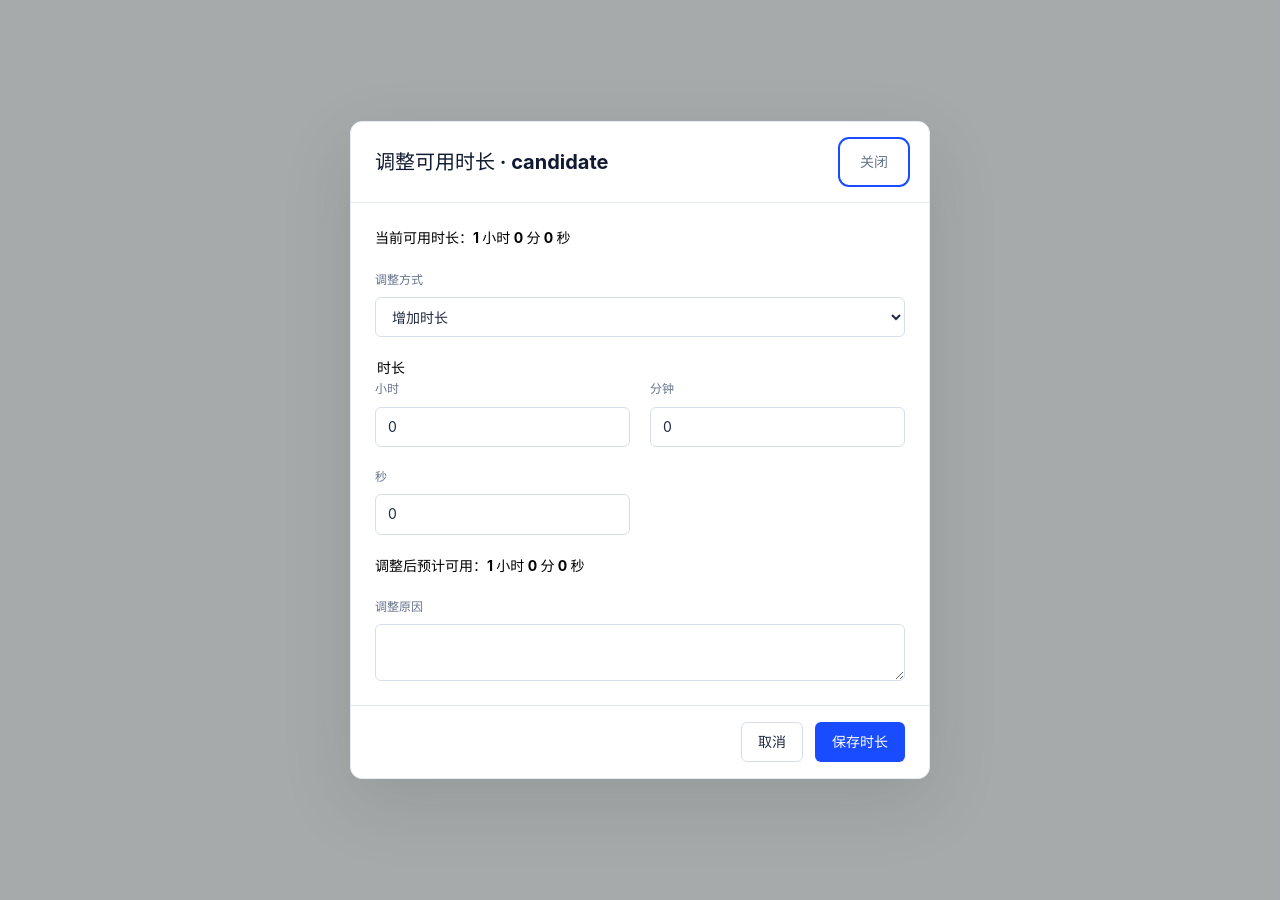
Test case: available interview duration › blocks subtracting more than the available balance
Select "扣除时长" in the dropdown labelled "调整方式" at (640, 317), box 375,297 -> 905,337
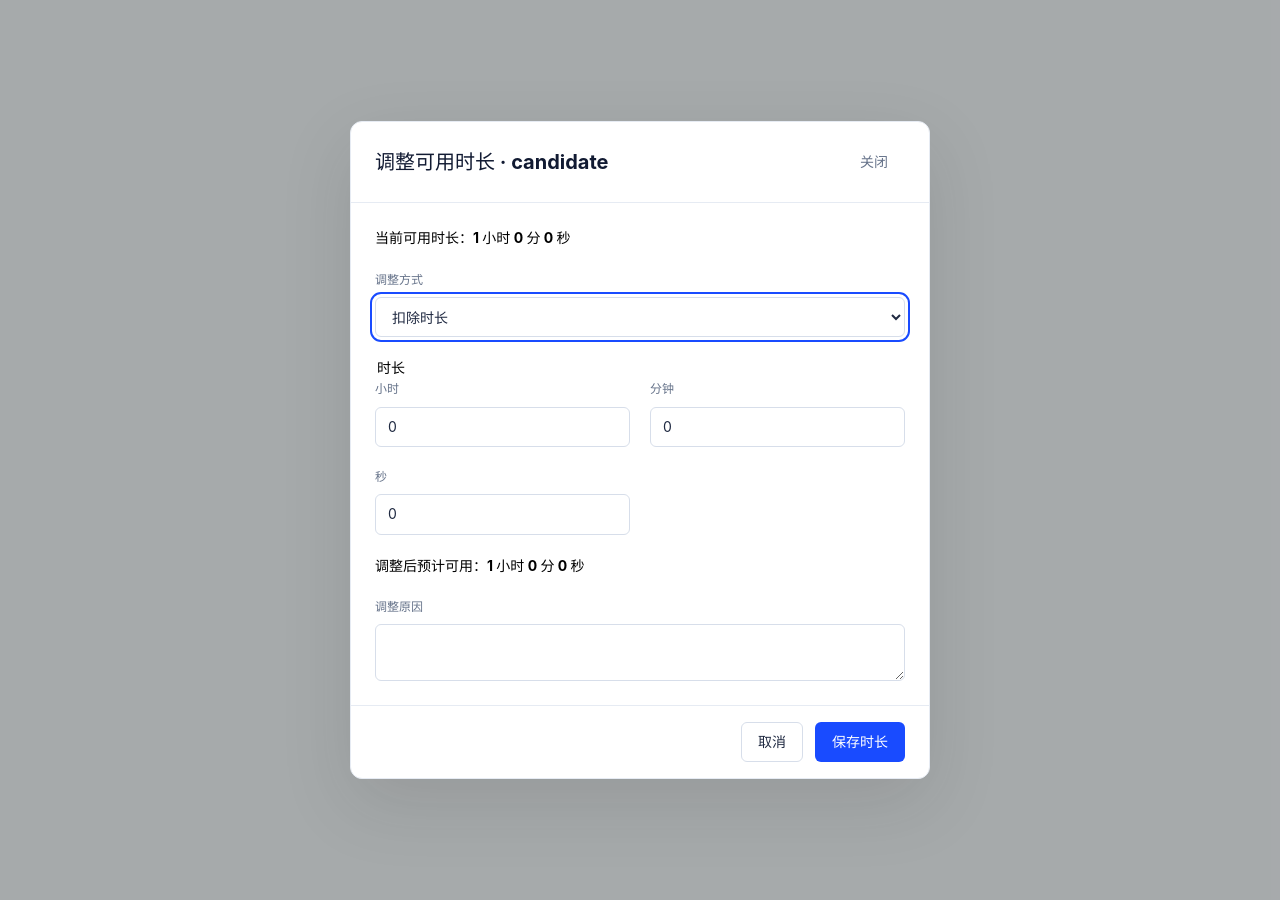
Replace the text in the number field labelled "小时" with "2" at (502, 427), box 375,407 -> 630,447
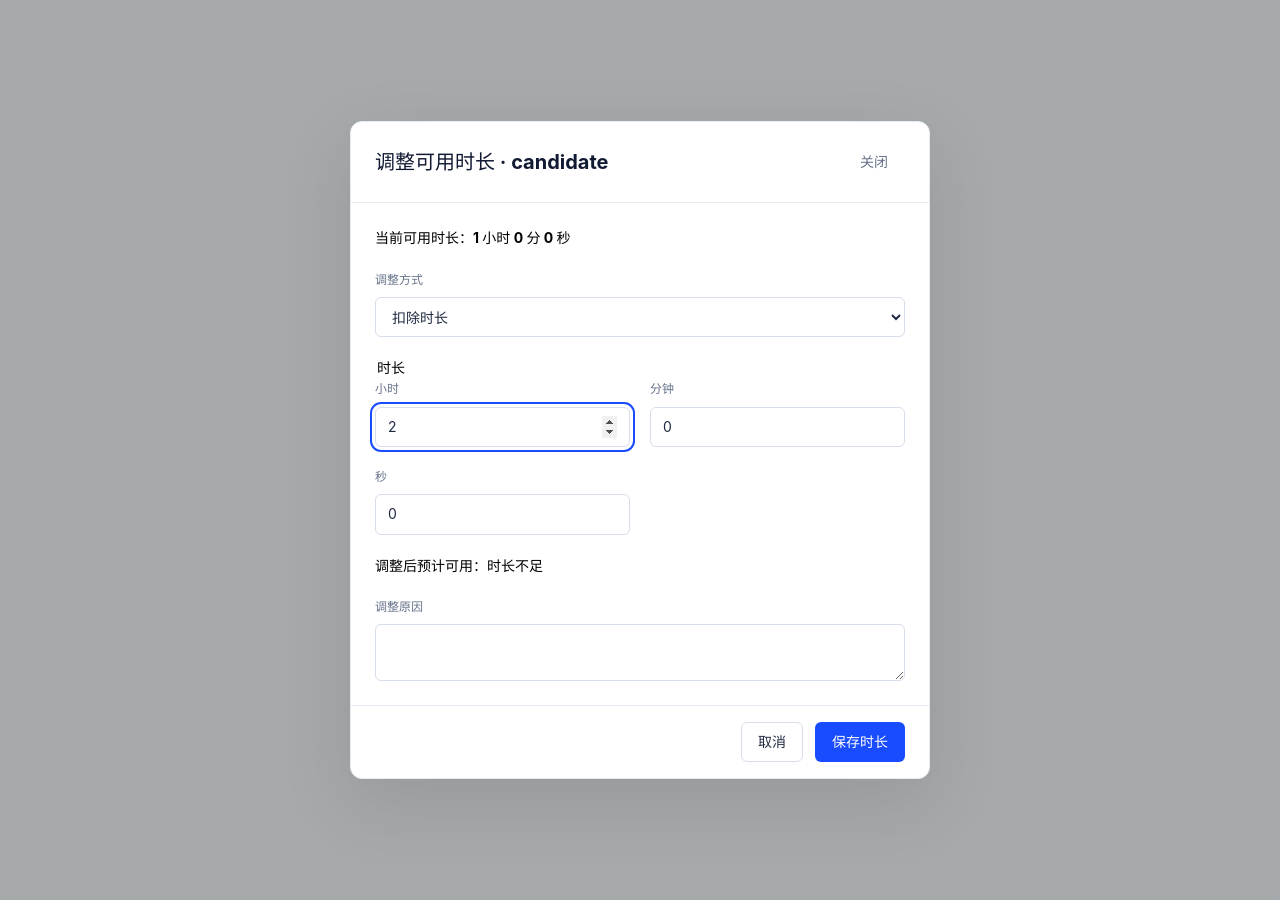
Type "扣除" into the text box labelled "调整原因" at (640, 652), box 375,624 -> 905,681
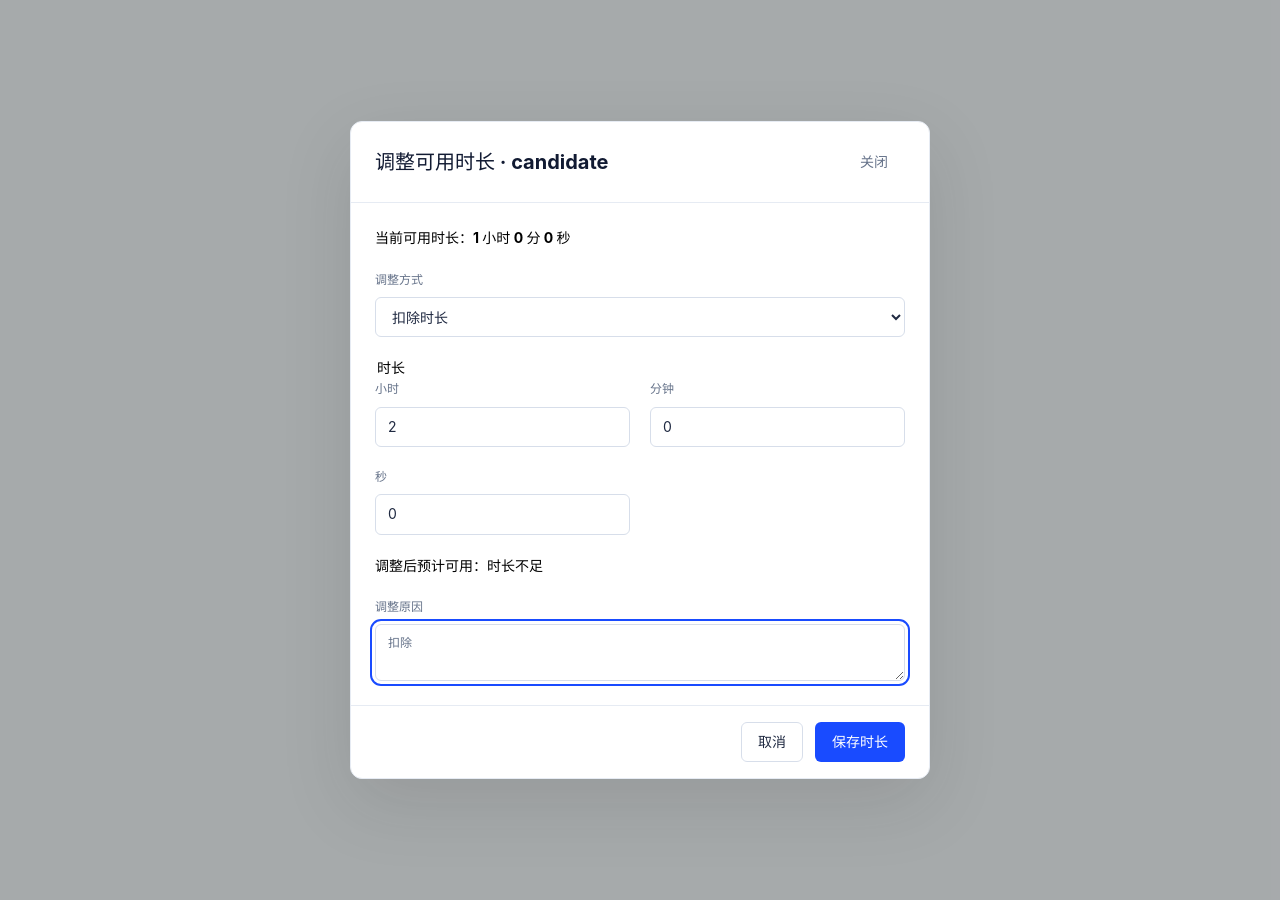
Click the button "保存时长" at (860, 742), box 815,722 -> 905,762
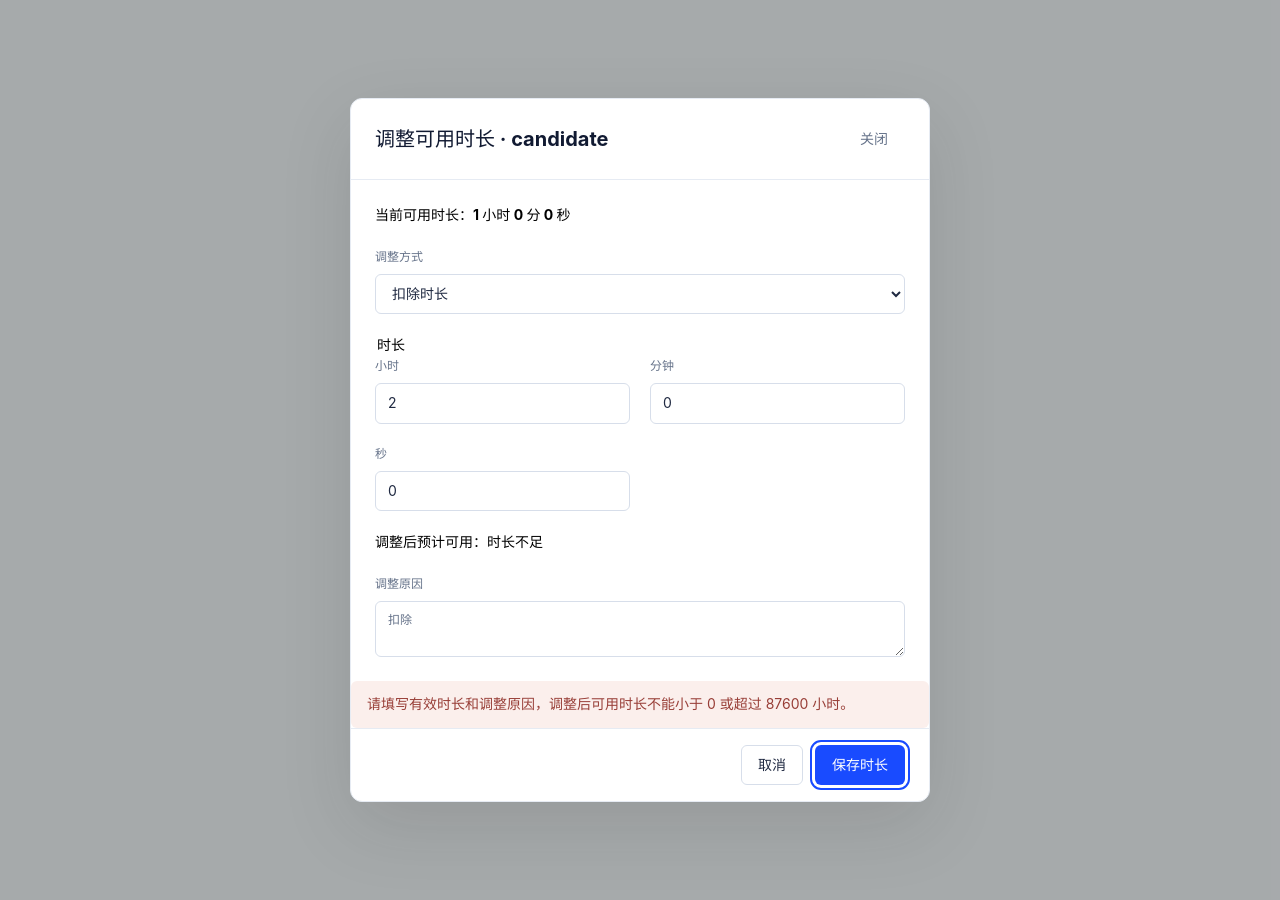
Check: the message "请填写有效时长和调整原因，调整后可用时长不能小于 0 或超过 87600 小时。" is shown, box 351,681 -> 929,728
